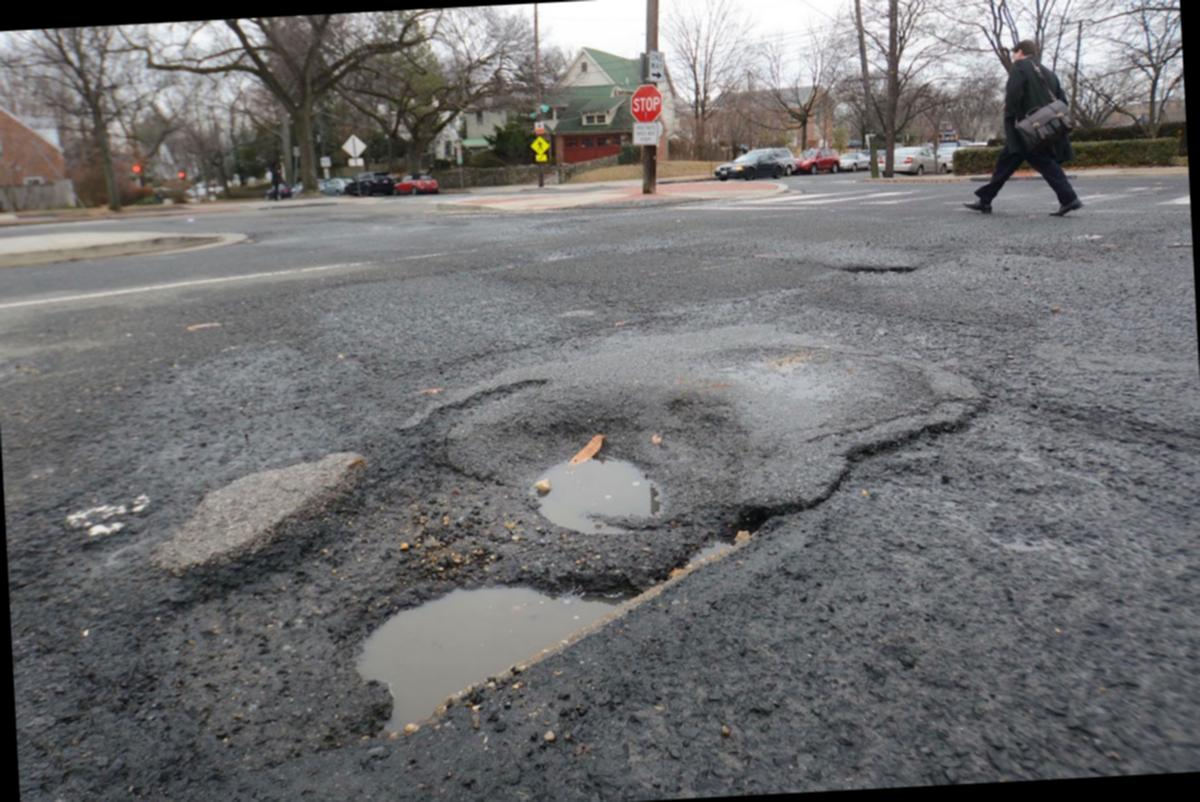pothole: (119, 328, 948, 802), (805, 241, 938, 296)
